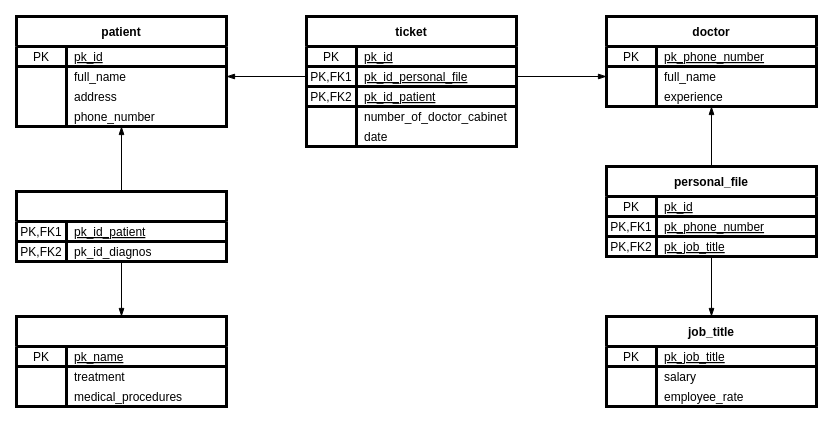
This 833x423 diagram has some shape labels left out. The shapes that lost their labels are listed below. From the top down, each one's box as (x1, y1, x2, y2) in pixels, then its label:
(14, 190, 228, 262): illnesses
(14, 314, 228, 408): diagnos
